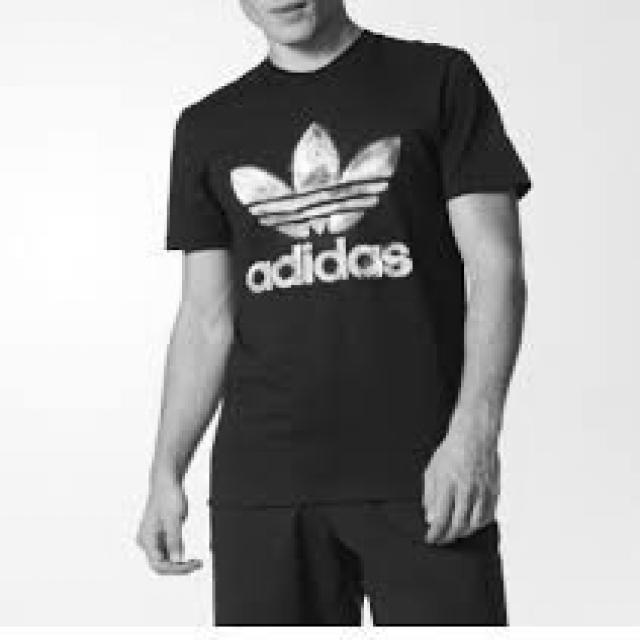Adidas: (218, 108, 424, 245)
